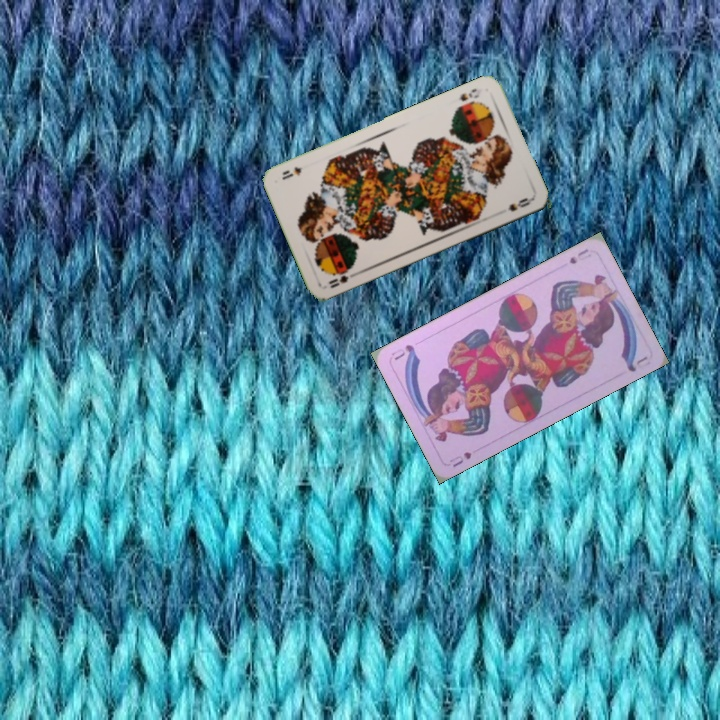SO: (324, 268, 361, 291), (456, 84, 485, 104)
SU: (445, 447, 474, 469), (565, 245, 593, 267)
